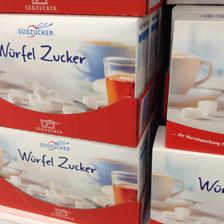sugar: (1, 14, 148, 116), (1, 127, 148, 214), (163, 10, 224, 156), (150, 141, 224, 221)
